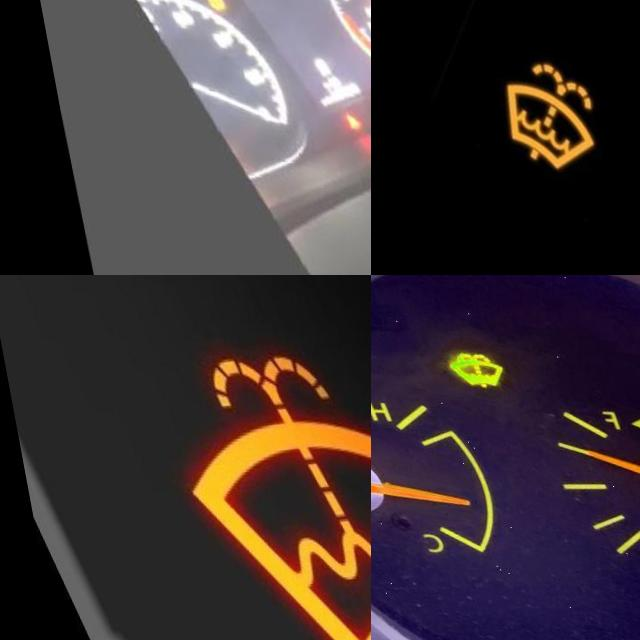Washer Fluid: (156, 327, 371, 640), (486, 40, 595, 163), (431, 332, 503, 384)
